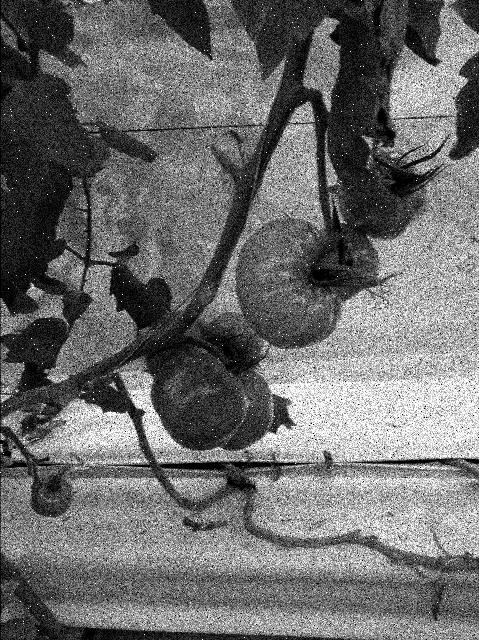b_fully_ripened: (150, 347, 249, 452), (145, 311, 210, 378)
b_green: (235, 217, 344, 350), (335, 145, 428, 241), (319, 222, 381, 303), (207, 311, 264, 370)
b_half_ripened: (220, 366, 274, 451), (29, 475, 73, 518)
